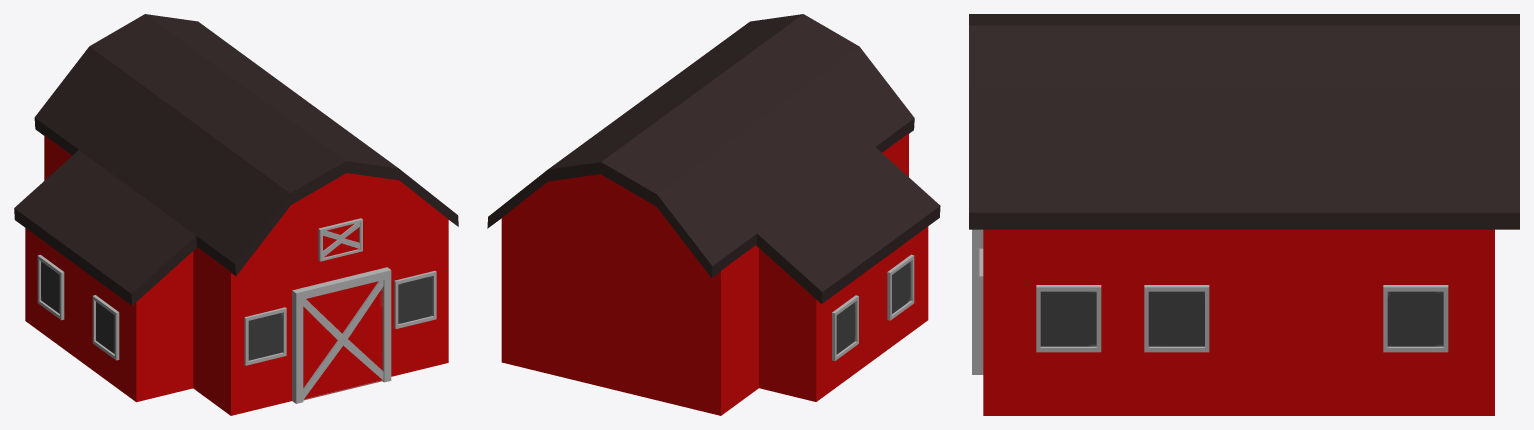
The model's file is Barn.glb.
3 views of the same model, side by side, from view 1: azimuth 30°, elevation 25°; view 2: azimuth 150°, elevation 25°; view 3: azimuth 270°, elevation 25° (orthographic). The views are drawn at different scales.
Visible parts, largest first — view 1: Barn, BarnRoof; view 2: Barn, BarnRoof; view 3: BarnRoof, Barn.
Part boxes in pixels (<box>): Barn: <box>25,135,448,415</box>; BarnRoof: <box>14,14,458,305</box>; Barn: <box>501,133,928,415</box>; BarnRoof: <box>487,14,940,303</box>; BarnRoof: <box>969,14,1519,229</box>; Barn: <box>972,229,1494,415</box>.
Size of what is drawn, in the model's own units: 7.06 by 5.43 by 8.52.
Materials: 2 (1 with a texture image).
